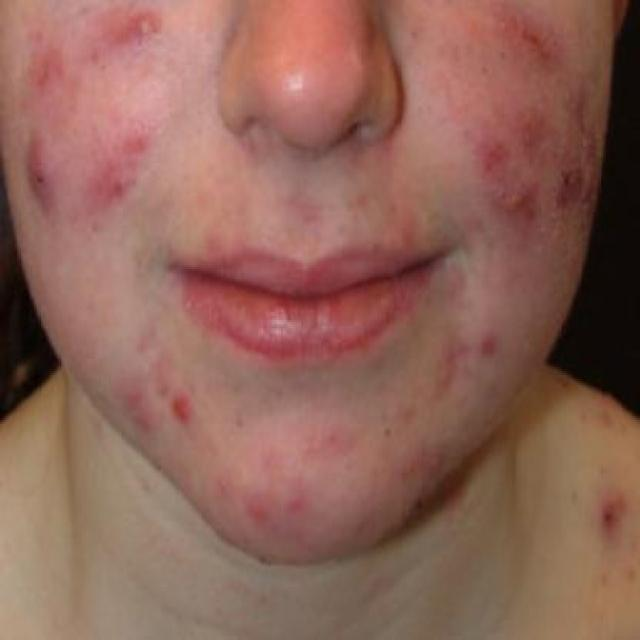nodules: (17, 124, 68, 208), (243, 473, 277, 526)
pustules: (119, 2, 166, 80)
